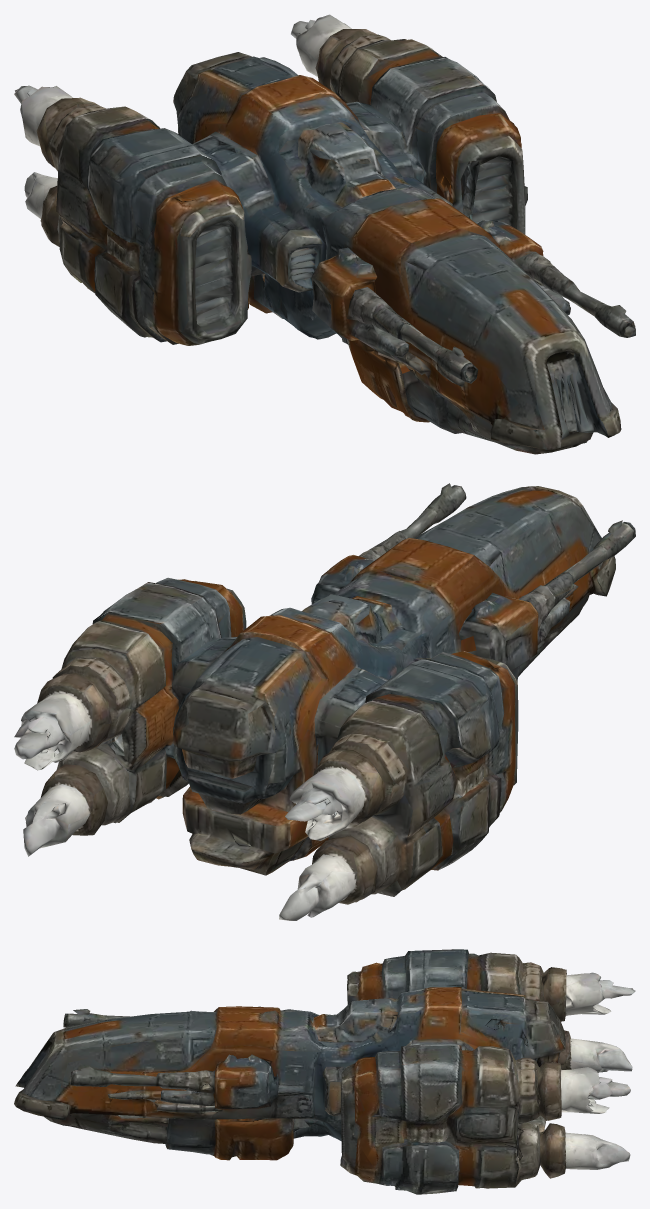
File: na-lancer.glb
The picture shows the model from 3 angles, top to bottom: view 1: azimuth 30°, elevation 25°; view 2: azimuth 150°, elevation 25°; view 3: azimuth 270°, elevation 25°; orthographic projection. The views are drawn at different scales.
Parts seen in each view (by area): view 1: geometry_0; view 2: geometry_0; view 3: geometry_0.
Part boxes in pixels (x1,y1,x2,y2): geometry_0: (14,14,635,454); geometry_0: (14,483,635,920); geometry_0: (14,949,635,1194).
Bounding box in the file's own units: 0.5271 × 0.2913 × 1.03.
Materials: 1 (1 with a texture image).
